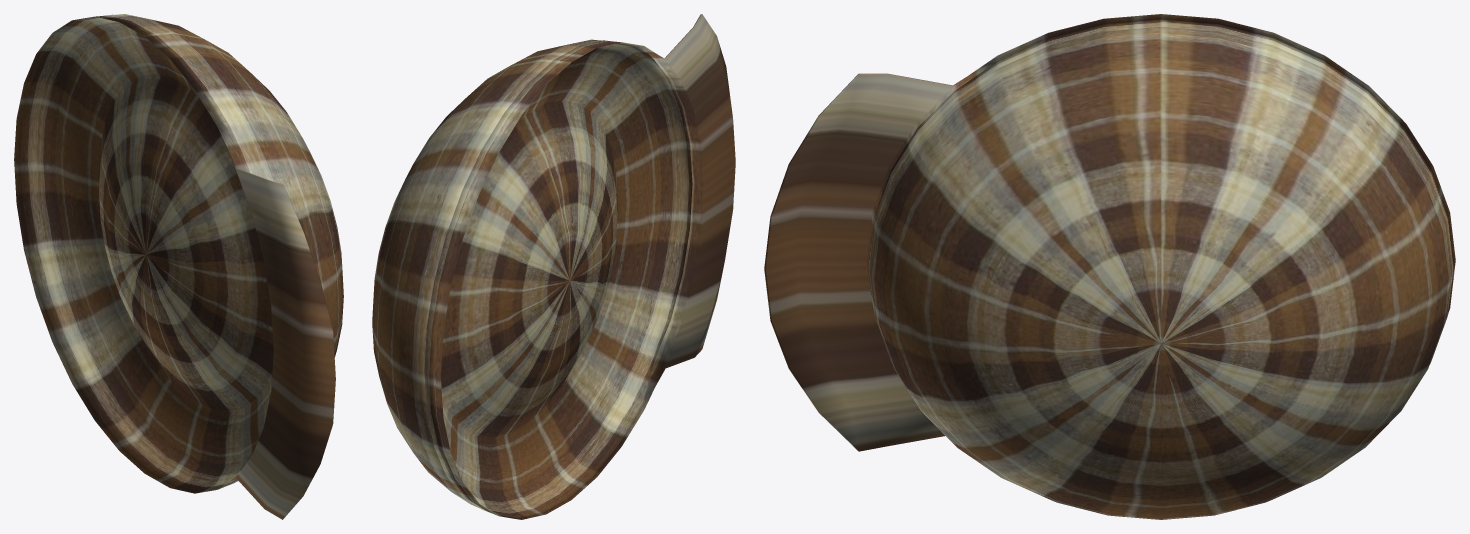
File: hat.dae
3 views of the same model, side by side, from view 1: azimuth 30°, elevation 25°; view 2: azimuth 150°, elevation 25°; view 3: azimuth 270°, elevation 25° (orthographic). The views are drawn at different scales.
Parts seen in each view (by area): view 1: Sphere; view 2: Sphere; view 3: Sphere.
Boxes of the visible parts, left/top/right/bottom form: Sphere: left=14, top=14, right=343, bottom=519; Sphere: left=372, top=14, right=735, bottom=519; Sphere: left=764, top=14, right=1455, bottom=519.
Size of the model in its own units: 0.0575 by 0.2002 by 0.1574.
Materials: 1 (1 with a texture image).
